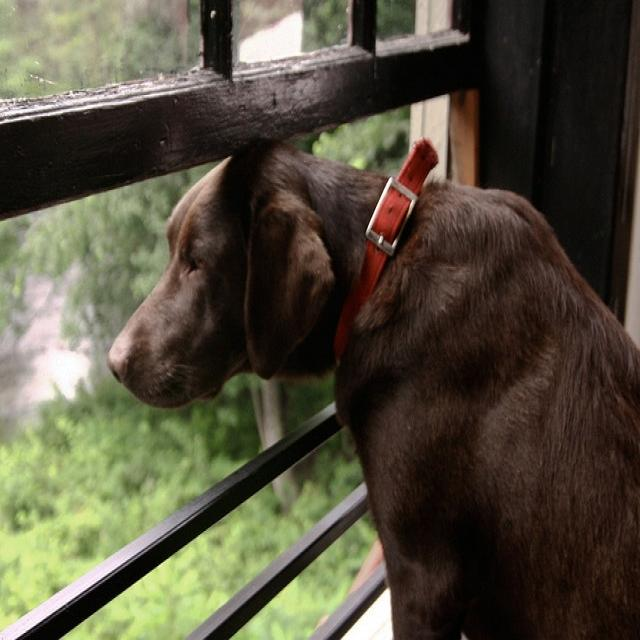dog: (106, 137, 639, 637)
